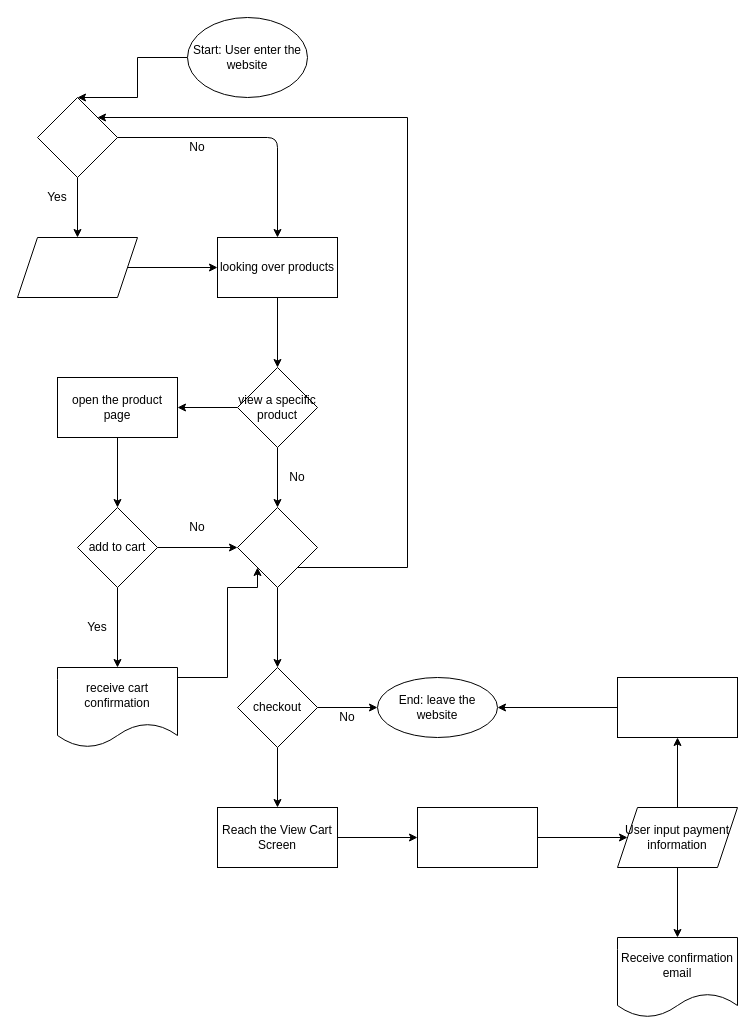
Some shapes in this 755 by 1035 pixel diagram are drawn without their labels. Here are the shapes that lost their labels. From the top down, the centre of each, then its label:
[77,137]: search for a product
[77,267]: user input to the website they search
[277,547]: continue shopping
[677,707]: Order confirmation screen
[477,837]: Go to View Payment Screen
